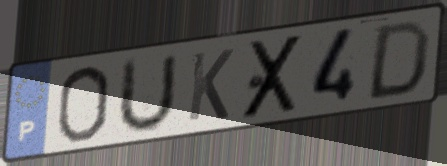4: (307, 24, 364, 110)
D: (363, 17, 434, 103)
K: (184, 46, 236, 125)
O: (53, 62, 113, 145)
U: (112, 50, 180, 138)
X: (238, 30, 308, 123)
